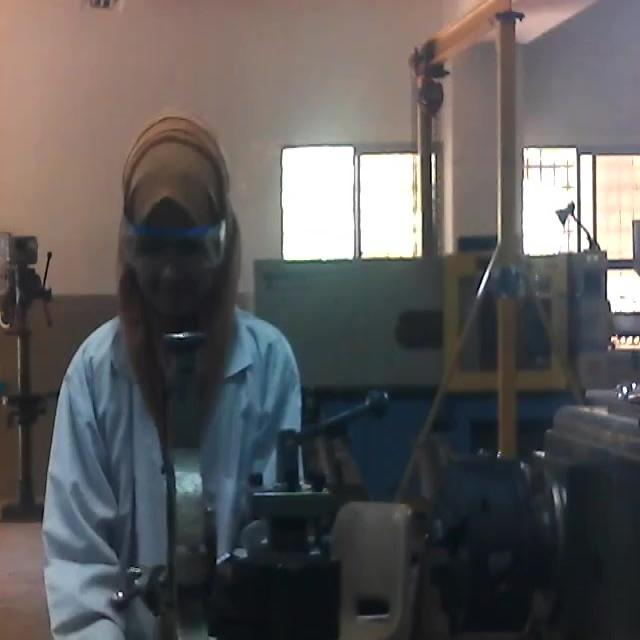googles: (116, 208, 239, 275)
labcoat: (39, 313, 312, 640)
